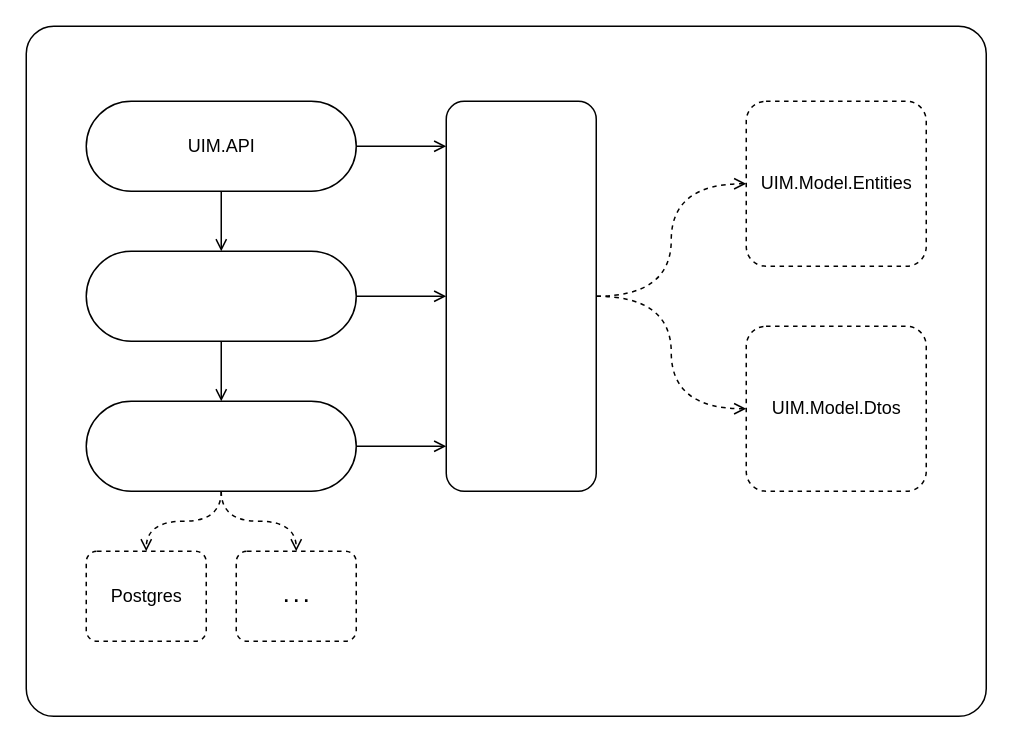
Some shapes in this 1013 by 743 pixel diagram are drawn without their labels. The centre of each missing label's shape, as x and y in pixels:
"UIM.BAL" goes at point 220,295.
"UIM.DAL" goes at point 220,445.
"UIM.Model" goes at point 520,295.
